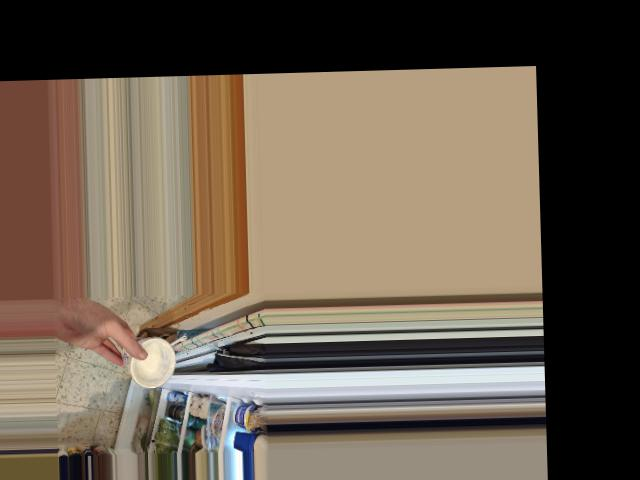cotage: (117, 335, 182, 387)
